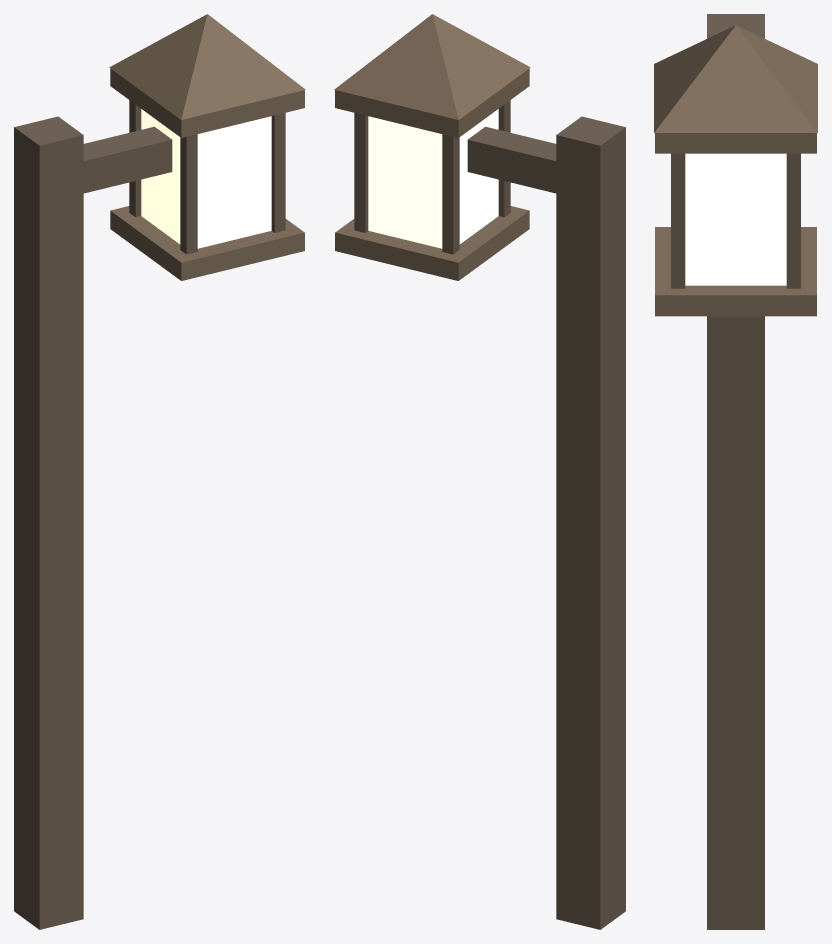
File: lamp.glb
3 renders of one model, left to right at view 1: azimuth 30°, elevation 25°; view 2: azimuth 150°, elevation 25°; view 3: azimuth 270°, elevation 25°, orthographic. The views are drawn at different scales.
Parts seen in each view (by area): view 1: lamp; view 2: lamp; view 3: lamp.
Part boxes in pixels (x1,y1,x2,y2): lamp: (14, 14, 305, 929); lamp: (334, 14, 625, 929); lamp: (654, 14, 817, 929).
Size of the model in its own units: 0.5514 by 1.87 by 0.2828.
